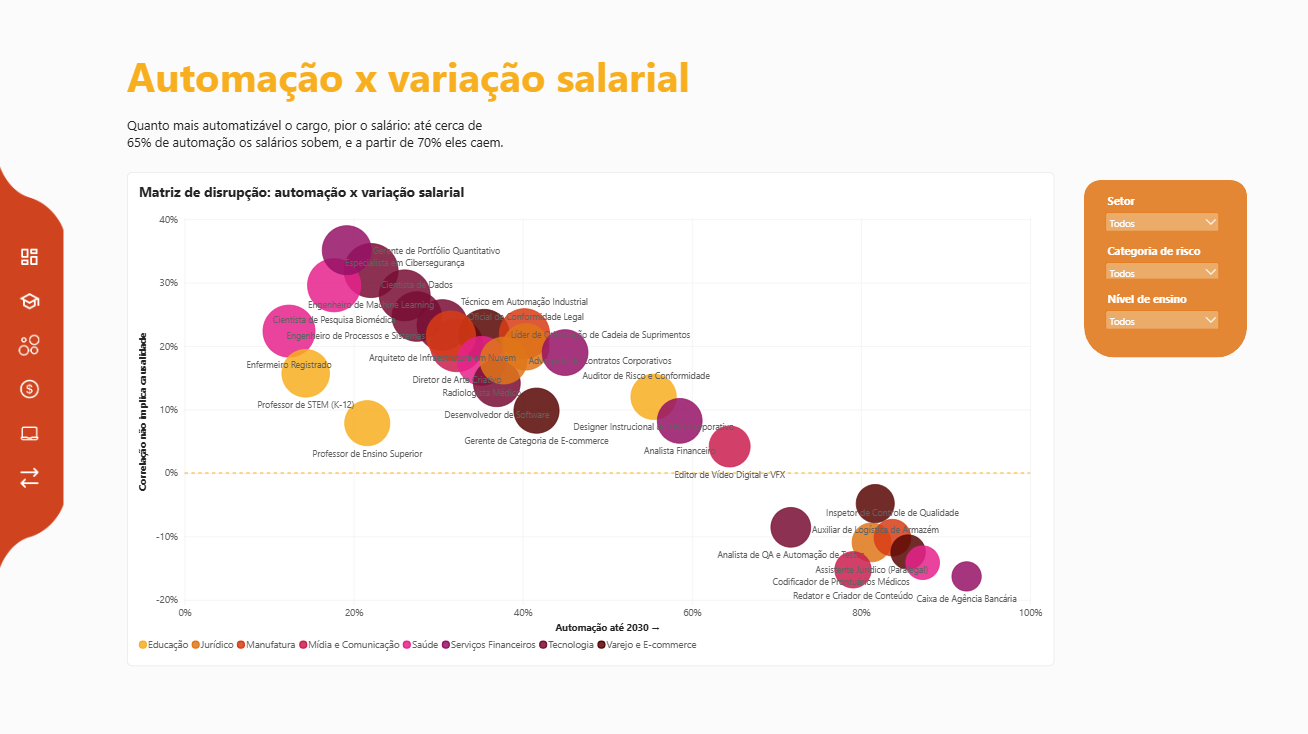

What the dashboard file says about the page in this screenshot:
{"tool":"powerbi","page":{"name":"Matriz de disrupção","canvas":[1920,1080],"ordinal":2},"visuals":[{"type":"scatterChart","title":"Matriz de disrupção: automação x variação salarial","fields":{"Category":["dim_cargo.Job_Title"],"Series":["dim_setor.Industry"],"Size":["Medidas Gerais.Total Vagas Pós-IA"],"X":["Medidas Gerais.Prob_Automacao_Media"],"Y":["Medidas Gerais.Variacao_Salarial_%"]},"box":[190.2,255.4,1352.7,720.9],"z":0},{"type":"shape","box":[1585.4,267.3,238.1,259.4],"z":0,"group":"g2"},{"type":"group","id":"g1","title":"Grupo 1","box":[0,132.9,97.1,814.3],"z":1000},{"type":"textbox","box":[190.2,75.8,994.9,83.8],"z":2000},{"type":"slicer","fields":{"Values":["dim_setor.Industry"]},"box":[1611.5,287,176.4,54.6],"z":2000,"group":"g2"},{"type":"textbox","box":[190.2,174.2,554.3,51.4],"z":3000},{"type":"group","id":"g2","title":"Grupo 2","box":[1585.4,267.3,238.1,259.4],"z":4000},{"type":"slicer","fields":{"Values":["fato_ai_job_impact.Risk_Category"]},"box":[1611.5,359.3,176.4,52.1],"z":5000,"group":"g2"},{"type":"slicer","fields":{"Values":["dim_escolaridade.Nivel_Escolaridade"]},"box":[1611.5,429.2,176.4,54.6],"z":7000,"group":"g2"},{"type":"image","box":[0,132.9,97.1,814.3],"z":9000,"group":"g1"},{"type":"actionButton","box":[17.1,417.2,61.4,52.9],"z":10000,"group":"g1"},{"type":"actionButton","box":[17.1,482.9,61.4,52.9],"z":11000,"group":"g1"},{"type":"actionButton","box":[17.1,547.2,61.4,52.9],"z":12000,"group":"g1"},{"type":"actionButton","box":[17.1,611.5,61.4,52.9],"z":13000,"group":"g1"},{"type":"actionButton","box":[17.1,674.3,61.4,52.9],"z":14000,"group":"g1"},{"type":"actionButton","box":[17.1,351.5,61.4,52.9],"z":15000,"group":"g1"}]}

Visuals, with their boxes on the page's 1920x1080 design canvas (x1, y1, x2, y2). These are canvas units, not pixel positions in the 1308x734 screenshot, which may show the page scaled, cropped or inside an application window:
"Matriz de disrupção: automação x variação salarial" scatterChart: bbox(190, 255, 1543, 976)
shape: bbox(1585, 267, 1824, 527)
"Grupo 1" group: bbox(0, 133, 97, 947)
textbox: bbox(190, 76, 1185, 160)
slicer - dim_setor.Industry: bbox(1612, 287, 1788, 342)
textbox: bbox(190, 174, 744, 226)
"Grupo 2" group: bbox(1585, 267, 1824, 527)
slicer - fato_ai_job_impact.Risk_Category: bbox(1612, 359, 1788, 411)
slicer - dim_escolaridade.Nivel_Escolaridade: bbox(1612, 429, 1788, 484)
image: bbox(0, 133, 97, 947)
actionButton: bbox(17, 417, 78, 470)
actionButton: bbox(17, 483, 78, 536)
actionButton: bbox(17, 547, 78, 600)
actionButton: bbox(17, 612, 78, 664)
actionButton: bbox(17, 674, 78, 727)
actionButton: bbox(17, 352, 78, 404)
